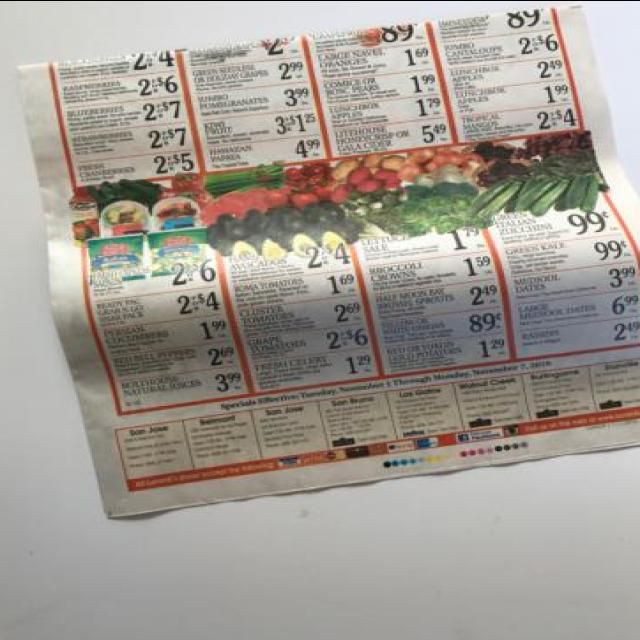kertas: (14, 3, 640, 520)
